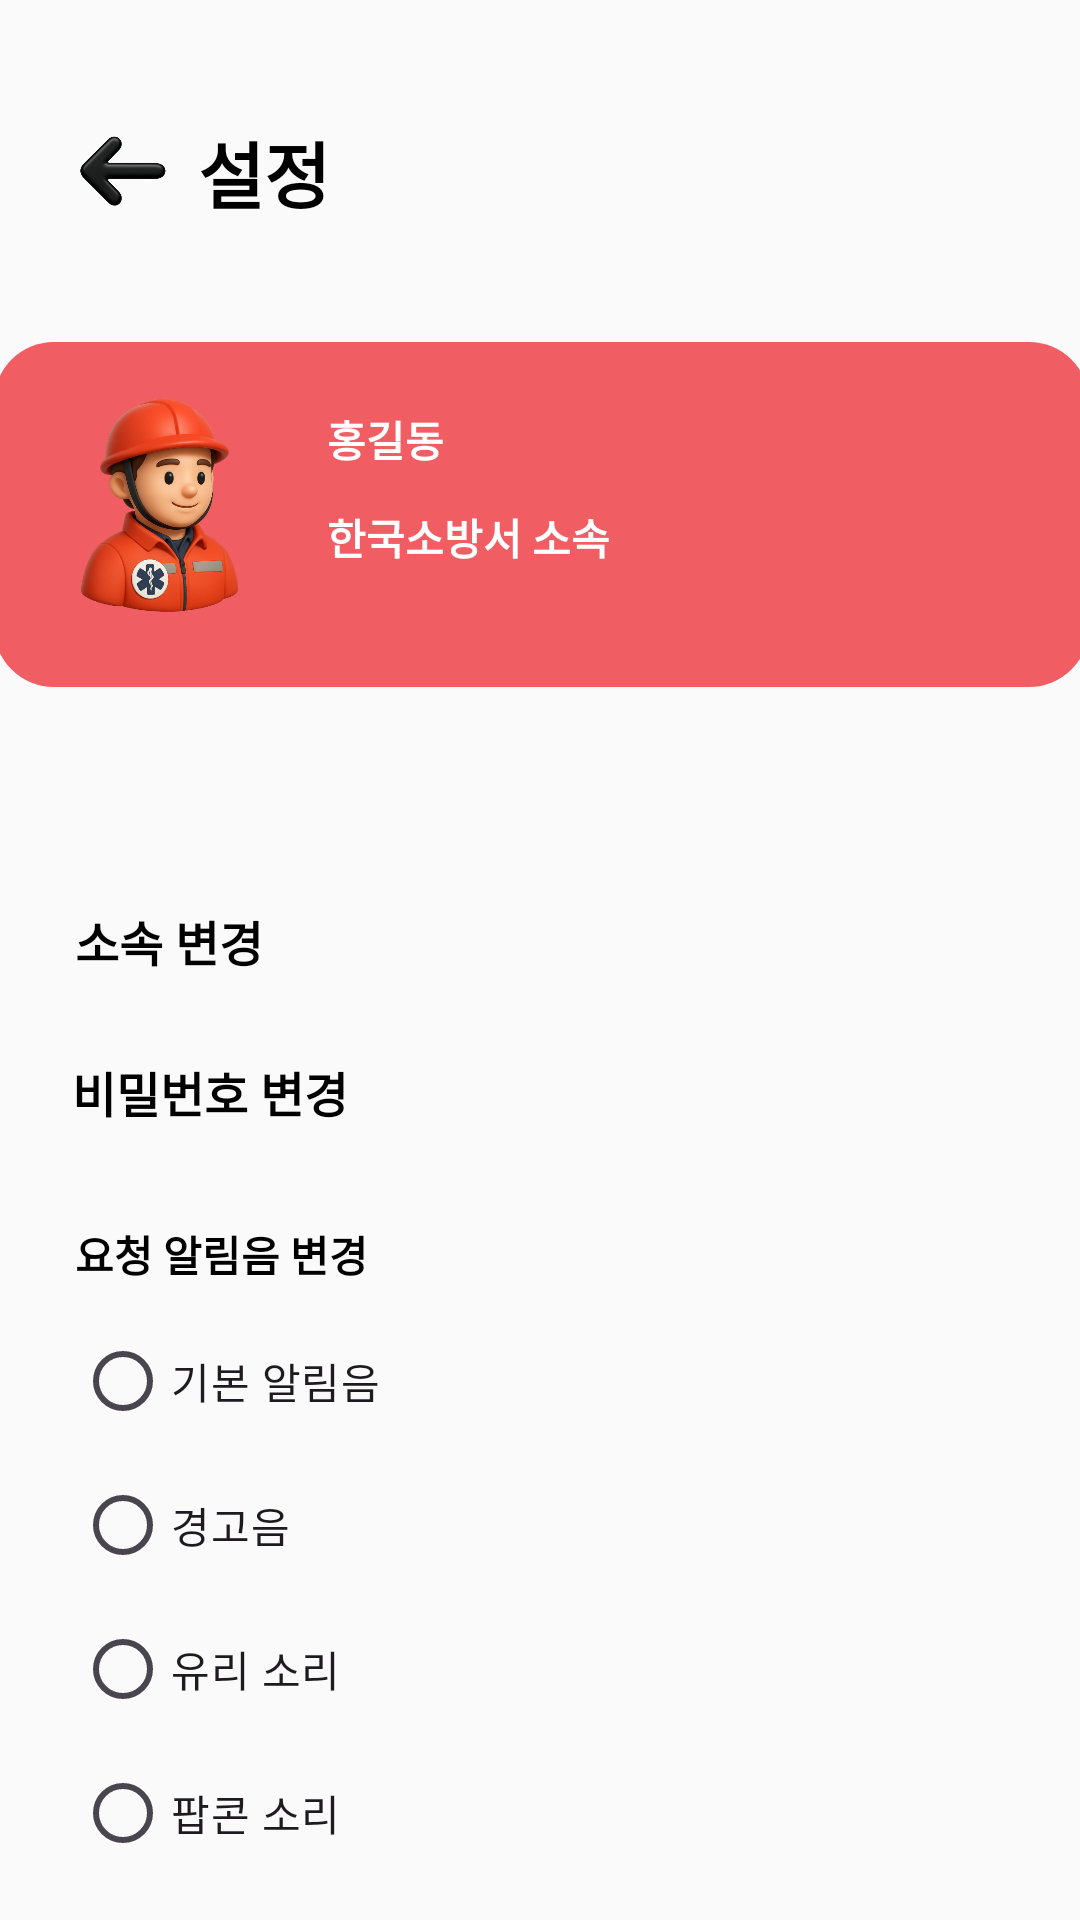

Icon click points for this 1080*1920 phone screenshot, format (x=x, y=y):
backicon: (x=123, y=171)
emimg: (x=159, y=505)
